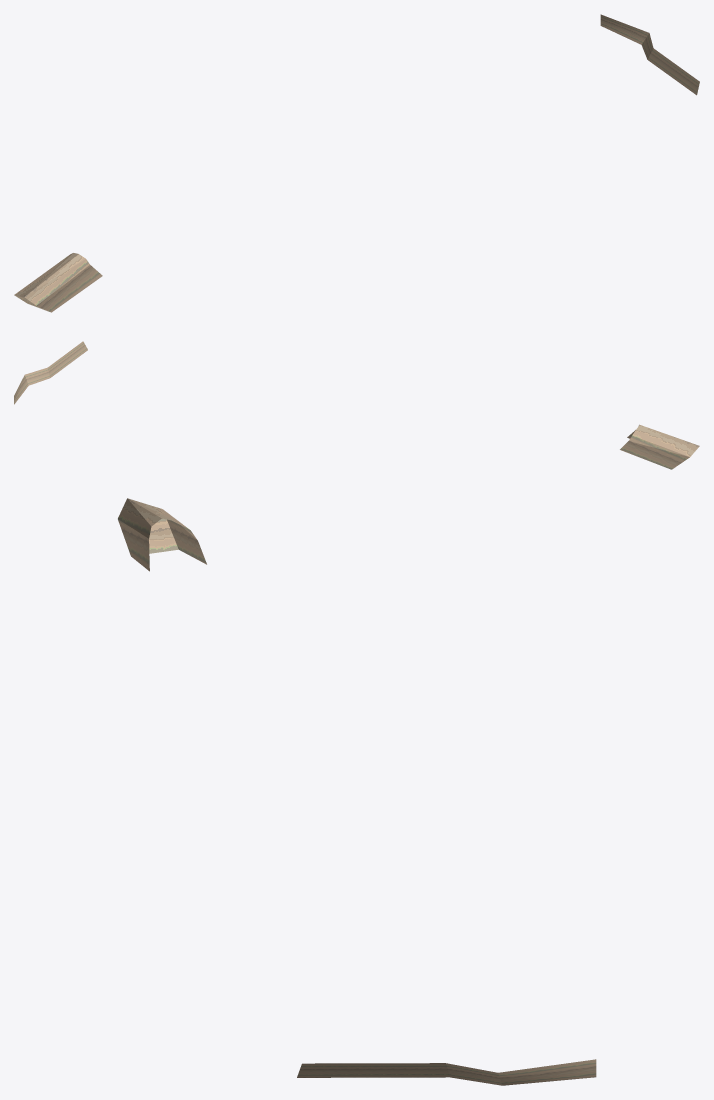
The model's file is kd_connection_town-ground_surface_2_23.glb.
The picture shows the model from 3 angles, top to bottom: view 1: azimuth 30°, elevation 25°; view 2: azimuth 150°, elevation 25°; view 3: azimuth 270°, elevation 25°; orthographic projection. The views are drawn at different scales.
Parts seen in each view (by area): view 1: kd_connection_town-ground_surface_2_23; view 2: kd_connection_town-ground_surface_2_23; view 3: kd_connection_town-ground_surface_2_23.
Boxes of the visible parts, <box> form: kd_connection_town-ground_surface_2_23: <box>14,14,699,312</box>; kd_connection_town-ground_surface_2_23: <box>14,341,699,469</box>; kd_connection_town-ground_surface_2_23: <box>118,498,596,1085</box>.
Size of the model in its own units: 109 by 5.91 by 38.62.
1 material, 1 textured.
